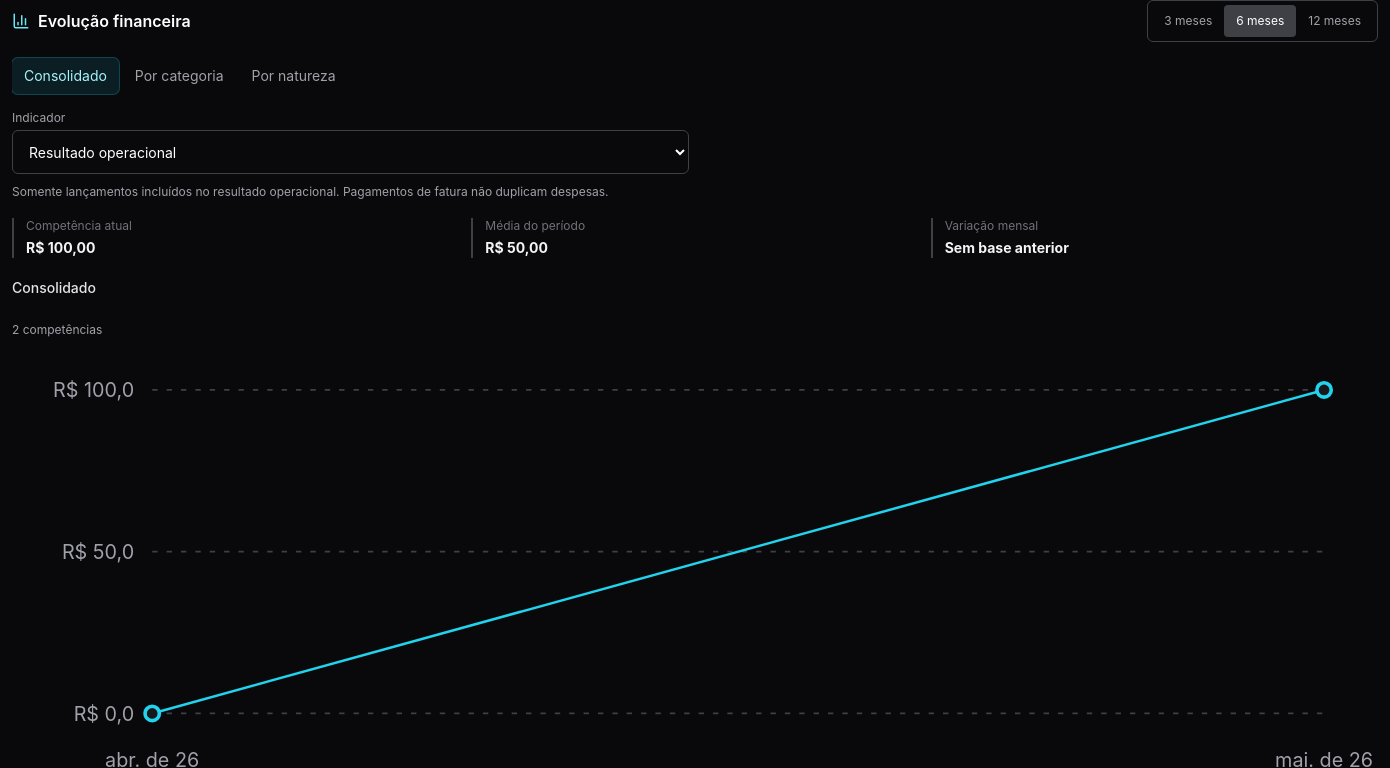
Scenario: financial analysis UI › removes stale results and shows a readable error after a failed request
Expected: the text "Sem base anterior" is shown, [945,239,1069,256]
Click the button "3 meses" at (1188, 21), box [1152,5,1224,37]
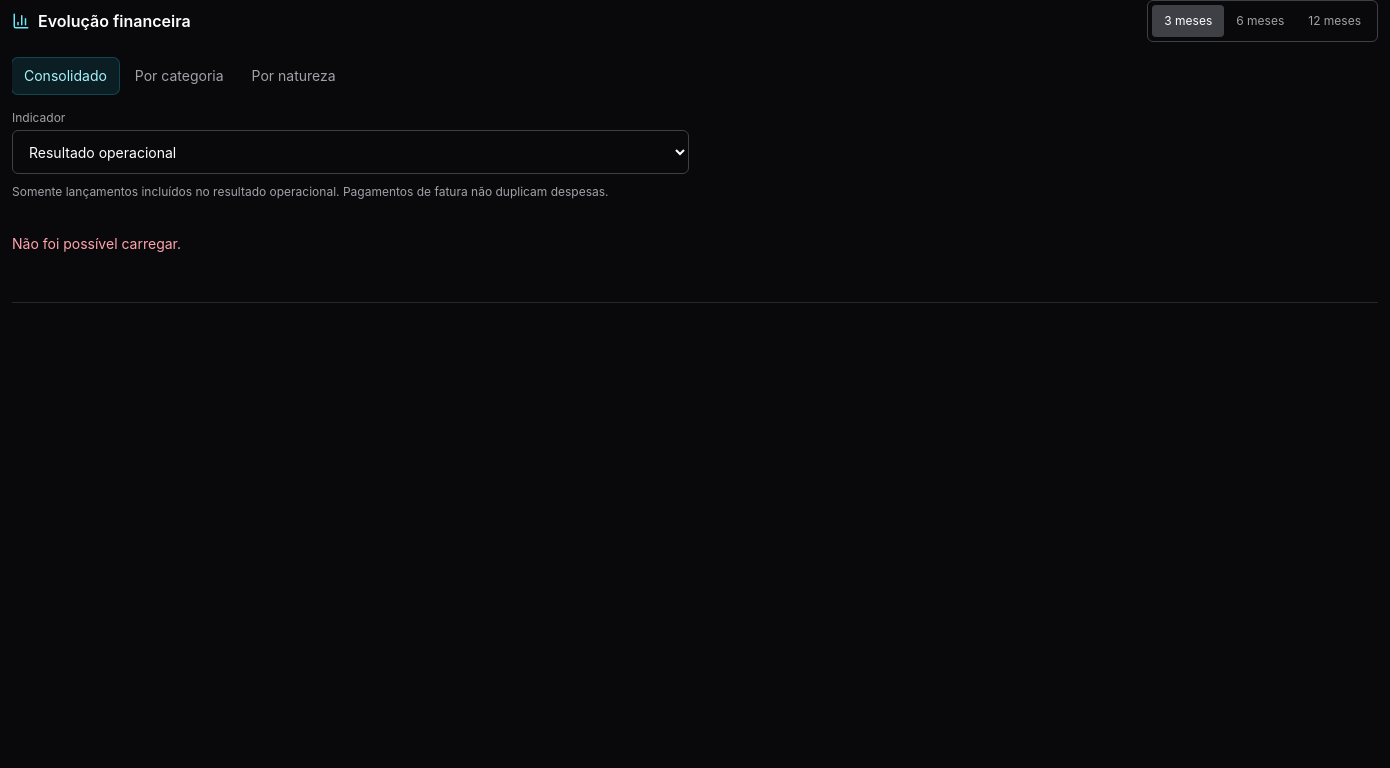
Now the message reads "Não foi possível carregar.", box [12,235,181,252]
